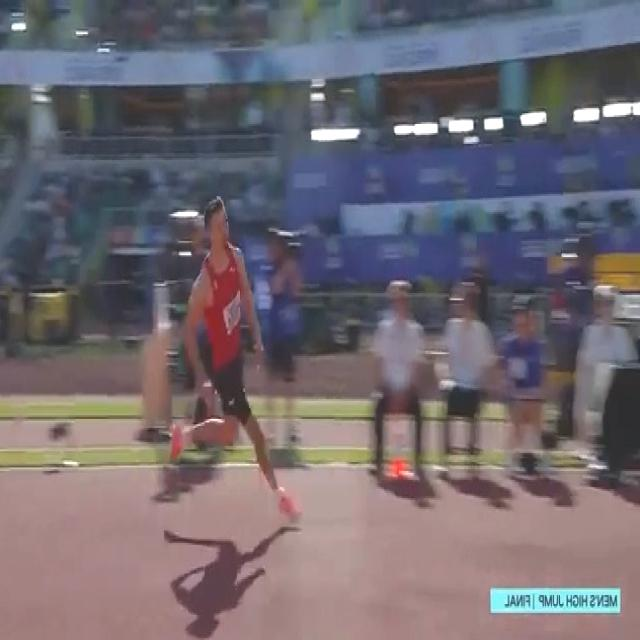run: (169, 195, 303, 527)
